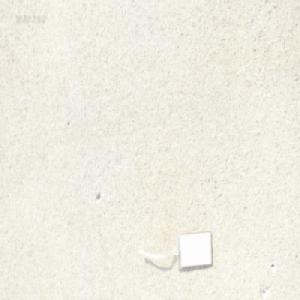LuggageTag: (134, 229, 210, 271)
